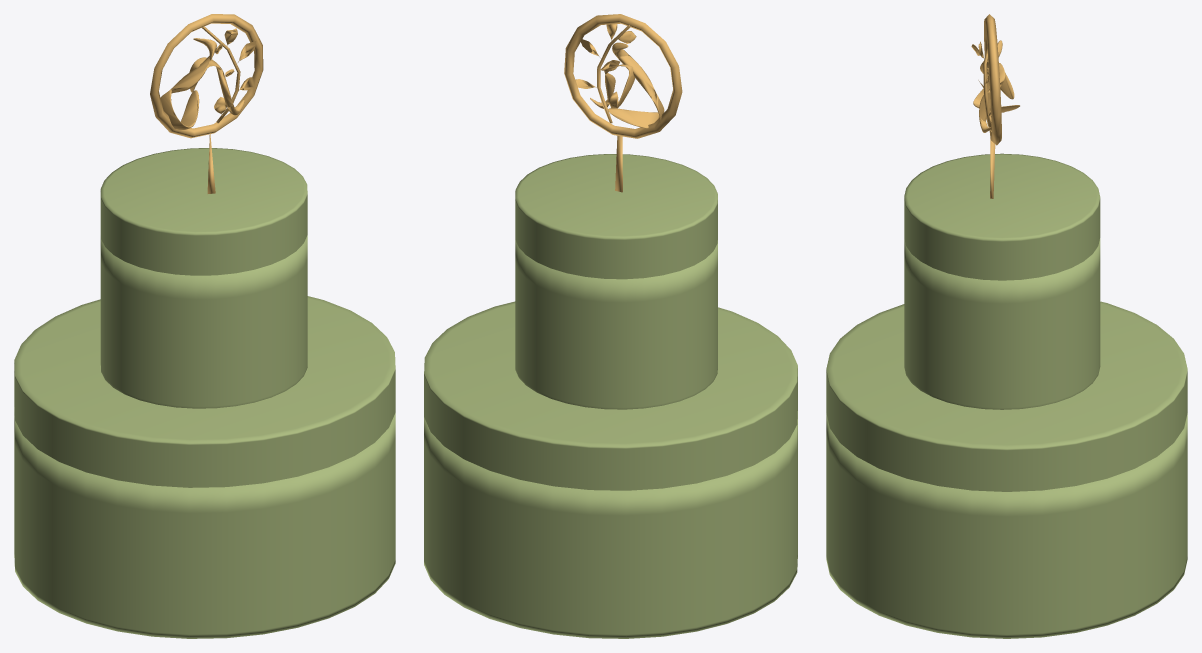
The model's file is 2-tier-pistage-none-ring.glb.
The picture shows the model from 3 angles, left to right: view 1: azimuth 30°, elevation 25°; view 2: azimuth 150°, elevation 25°; view 3: azimuth 270°, elevation 25°; orthographic projection. The views are drawn at different scales.
Parts seen in each view (by area): view 1: Cylinder.023, Cylinder.013, Cylinder.011; view 2: Cylinder.023, Cylinder.013, Cylinder.011; view 3: Cylinder.023, Cylinder.013, Cylinder.011.
Part boxes in pixels (x1,y1,x2,y2): Cylinder.023: (14,296,395,638); Cylinder.013: (100,148,307,408); Cylinder.011: (150,14,263,193); Cylinder.023: (424,301,797,638); Cylinder.013: (515,154,717,409); Cylinder.011: (564,14,682,192); Cylinder.023: (826,301,1187,638); Cylinder.013: (904,153,1100,409); Cylinder.011: (971,14,1019,198).
Bounding box in the file's own units: 3.4 × 5.36 × 3.27.
